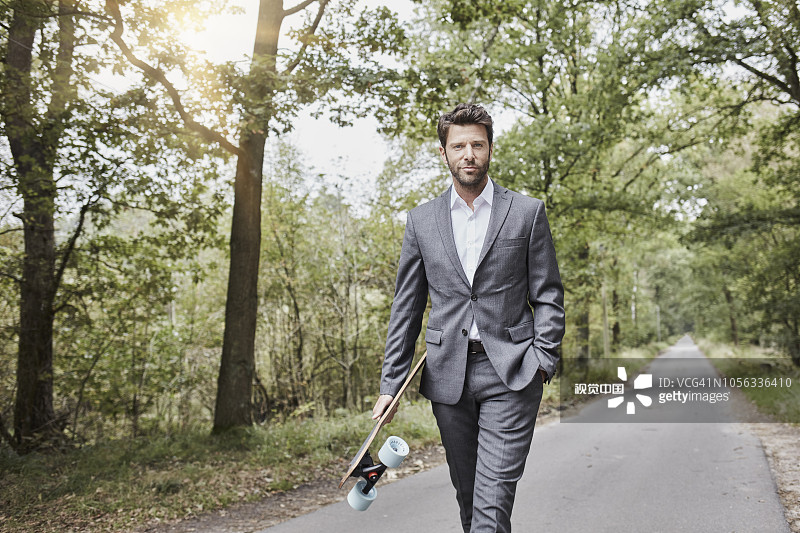no-phone: (359, 383, 411, 429)
